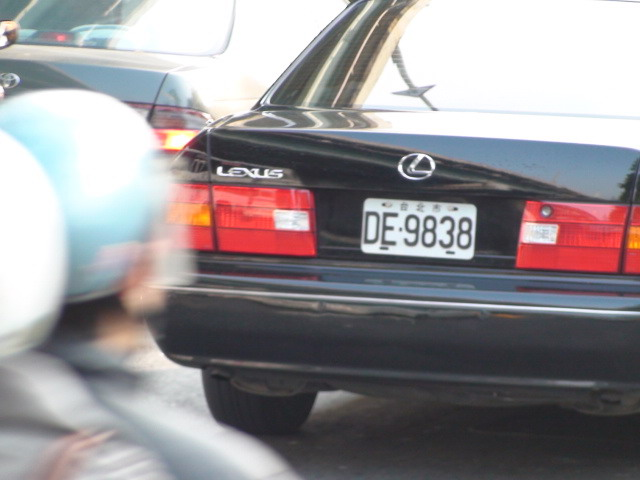plate: (358, 192, 481, 264)
